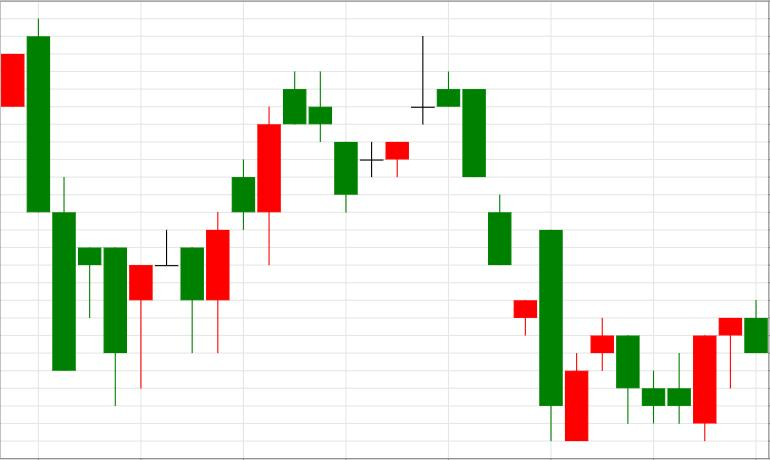bullish_engulfing_rise: (590, 318, 716, 442)
hammer_rise: (27, 18, 152, 406)
